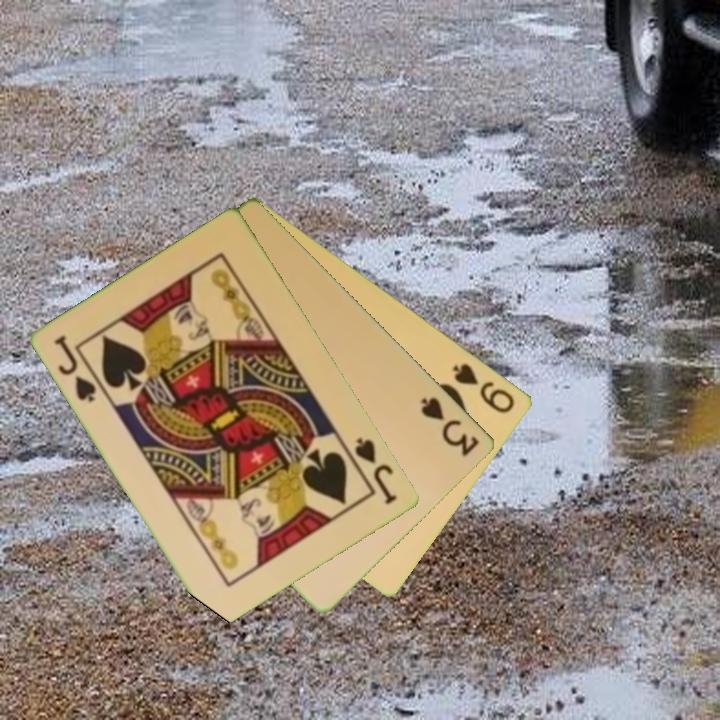3s: (417, 393, 483, 460)
9s: (449, 359, 518, 417)
Js: (51, 331, 108, 406), (351, 433, 400, 508)
